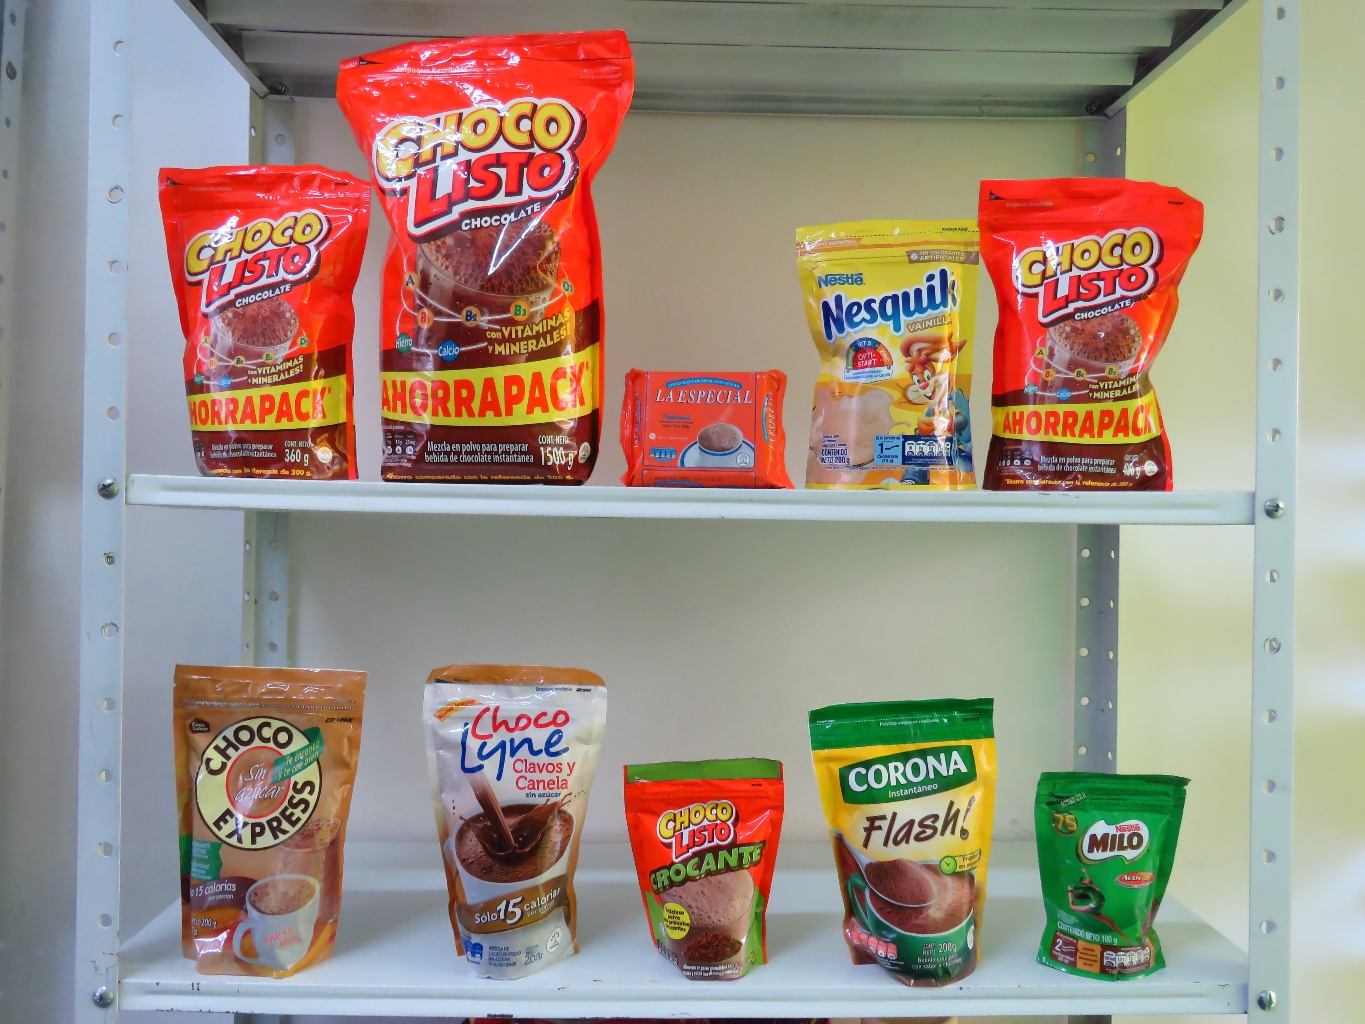COL0170102DYP10000: (614, 738, 812, 984)
COL0170103DYP1,500: (315, 5, 667, 495)
COL0170103DYP36000: (139, 148, 382, 489)
COL0170103DYP40000: (959, 148, 1219, 506)
COL0170203DYP10000: (1004, 736, 1228, 992)
COL0170306DYP20000: (760, 190, 1013, 504)
